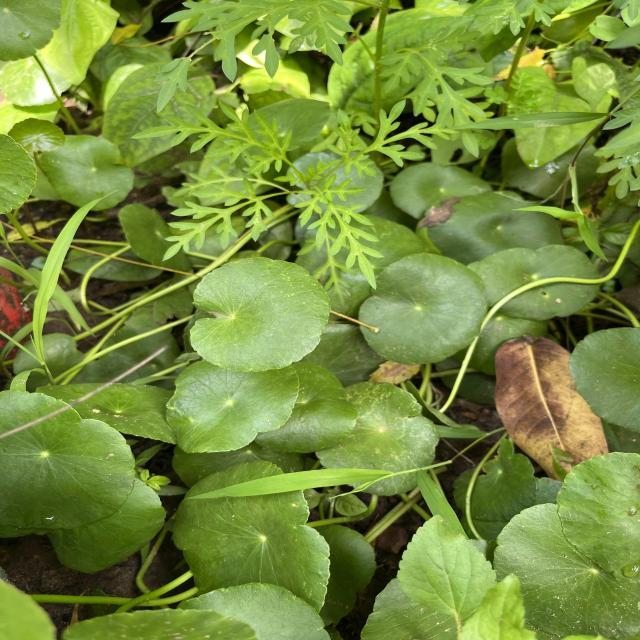Bacopa monnieri: (169, 457, 333, 617), (0, 388, 138, 532), (188, 254, 334, 374), (355, 249, 490, 367), (163, 360, 302, 454)
